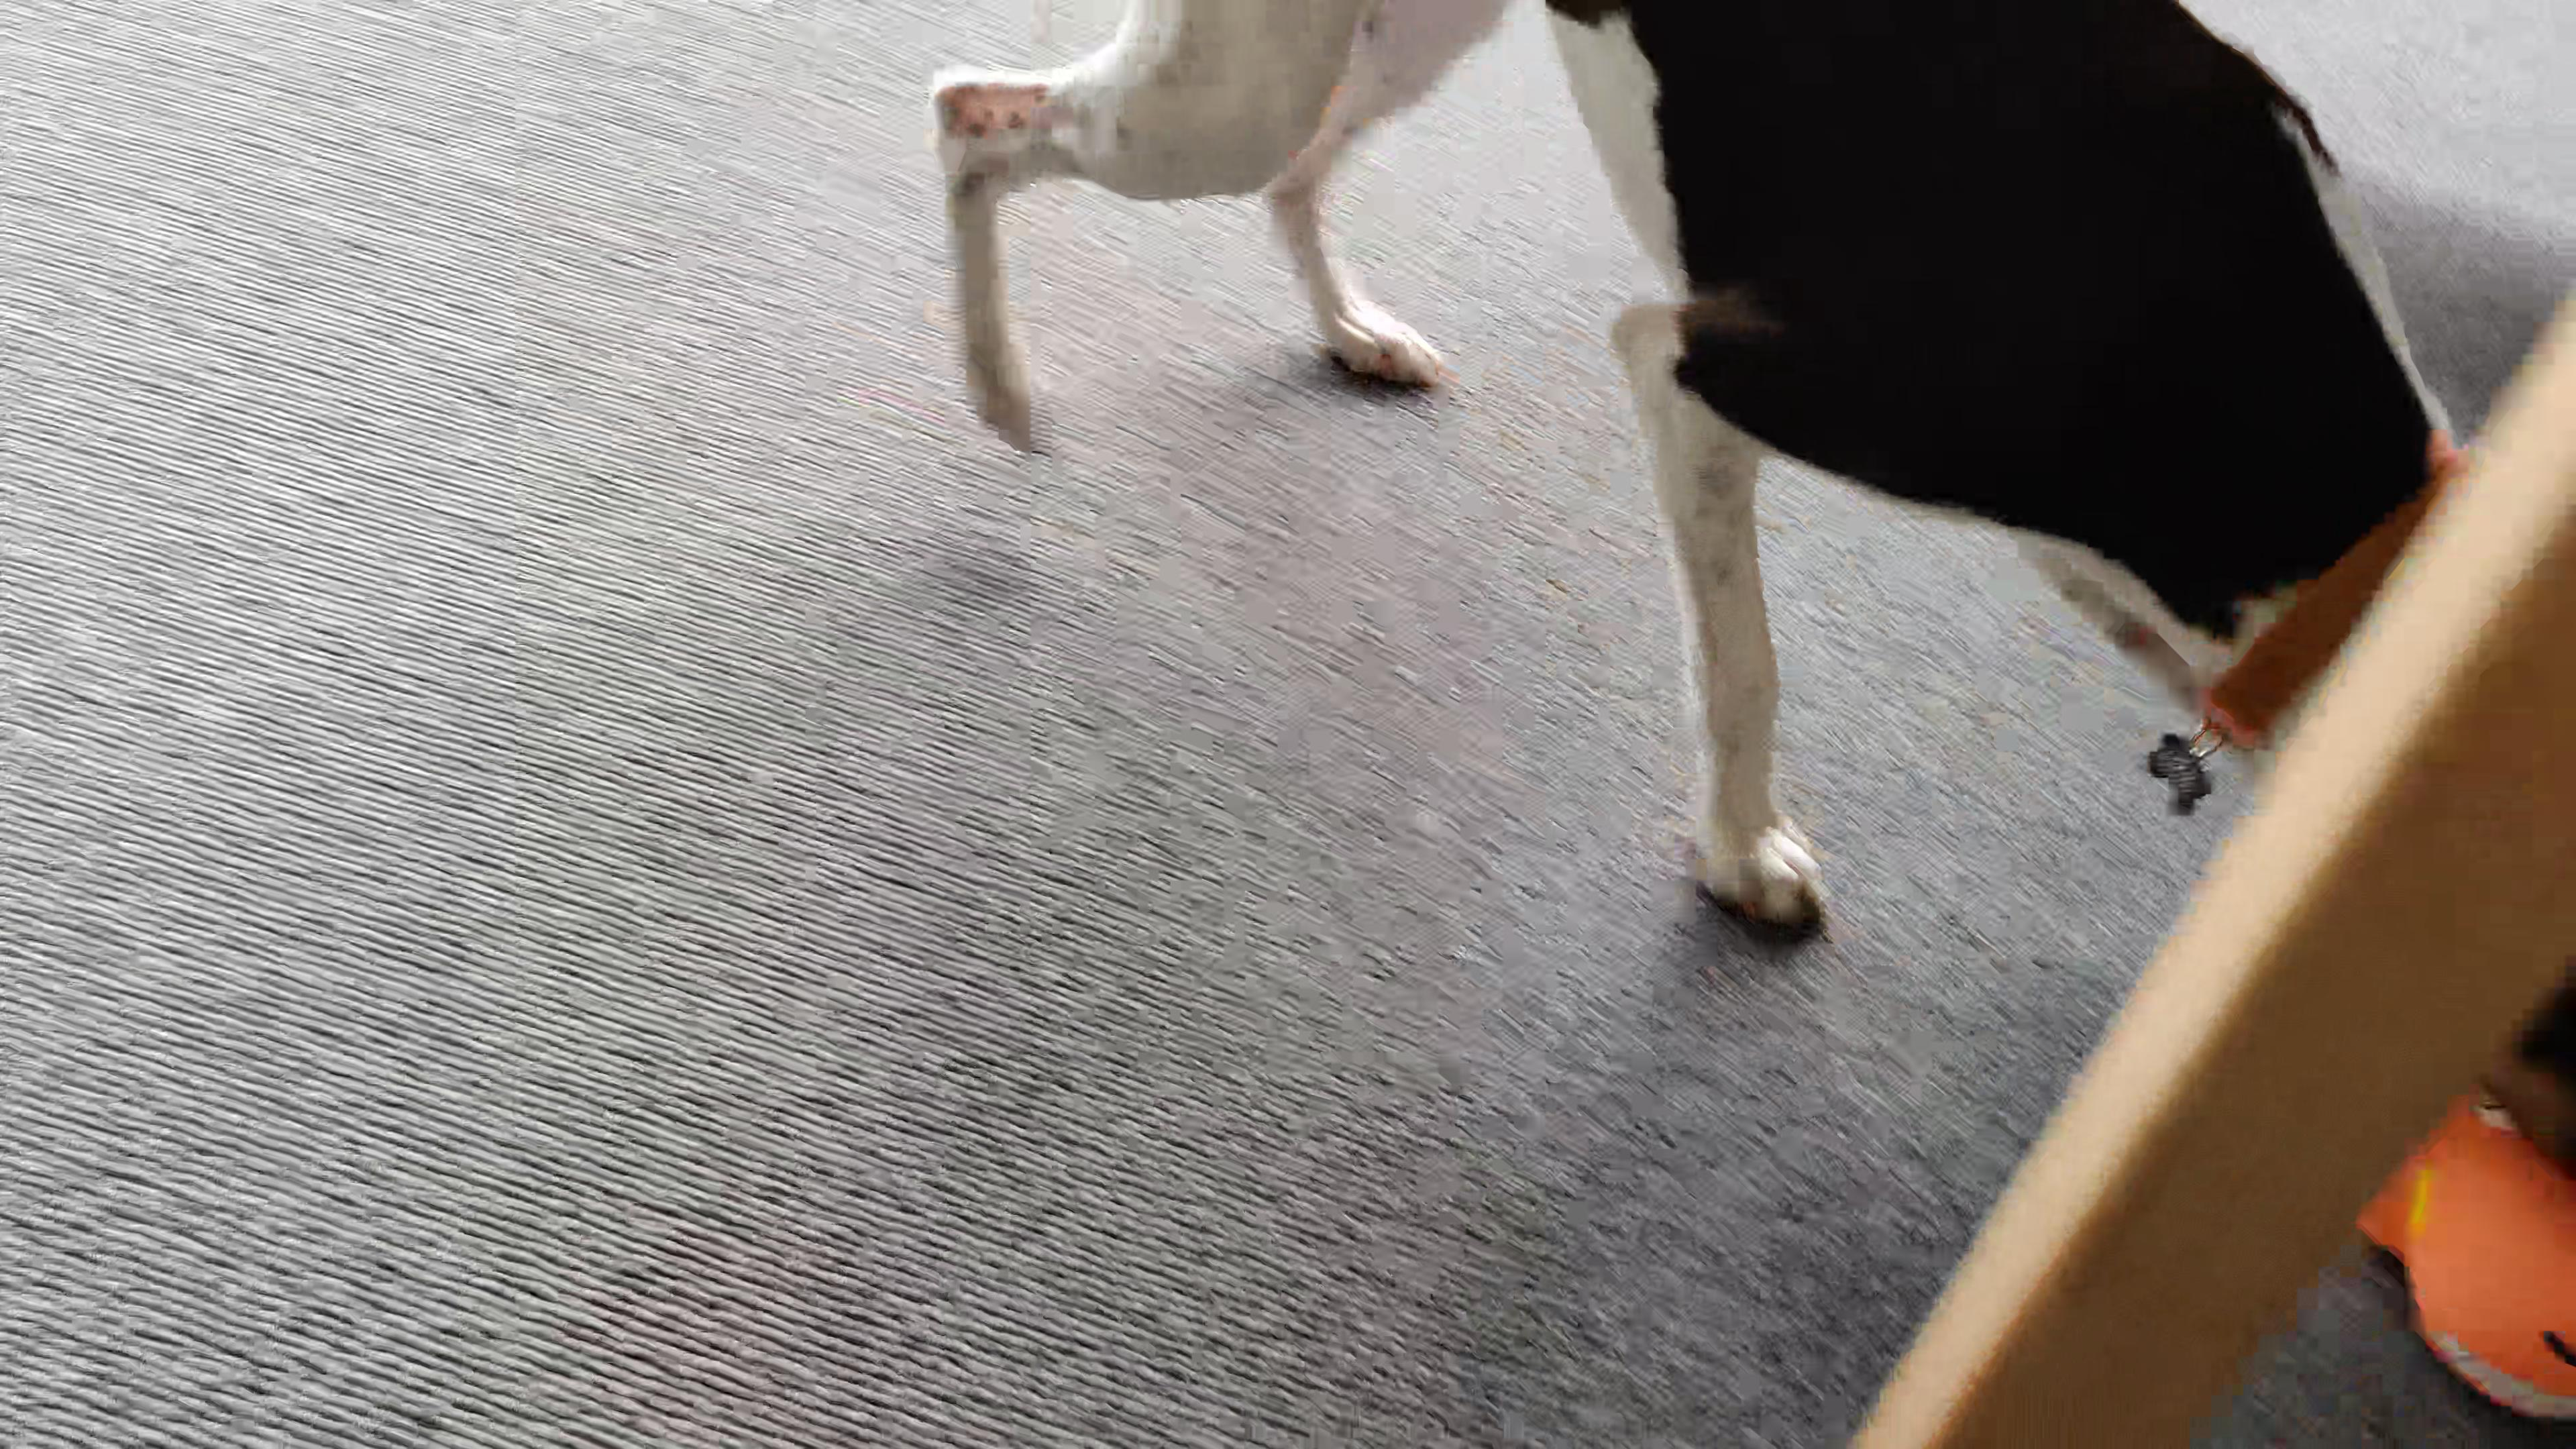Dog: (922, 0, 2576, 1187)
